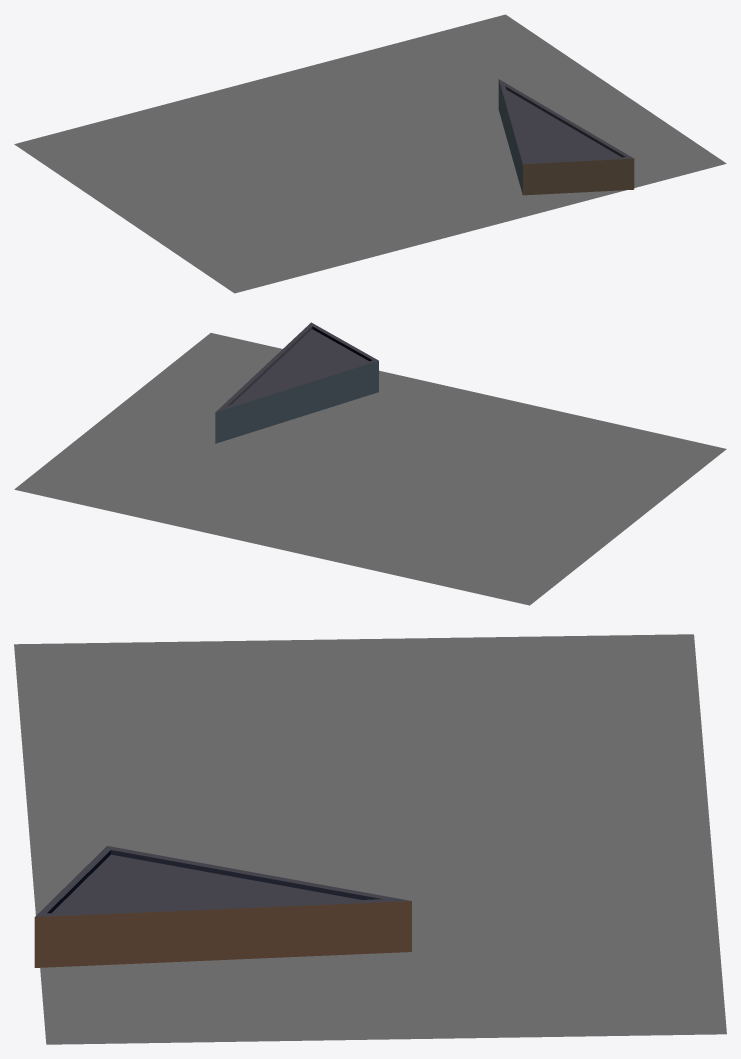
File: corner-of-east-main-street-and-rossville-avenue.glb
3 views of the same model, one above another, from view 1: azimuth 30°, elevation 25°; view 2: azimuth 150°, elevation 25°; view 3: azimuth 270°, elevation 25° (orthographic). The views are drawn at different scales.
Visible parts, largest first — view 1: LOD0; view 2: LOD0; view 3: LOD0.
Boxes of the visible parts, box(x1,y1,x2,y2) form: LOD0: box(14, 14, 726, 293); LOD0: box(14, 322, 726, 605); LOD0: box(14, 634, 726, 1044).
Size of what is drawn, in the model's own units: 114 by 6.6 by 83.71.
1 material, 1 textured.
